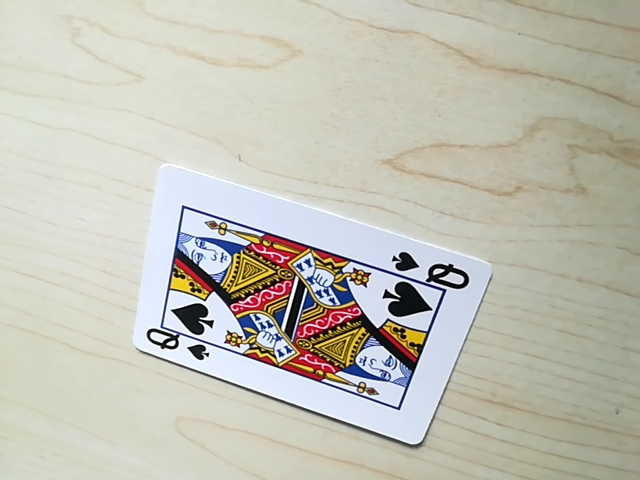ht q: (137, 327, 210, 364), (392, 254, 470, 288)
